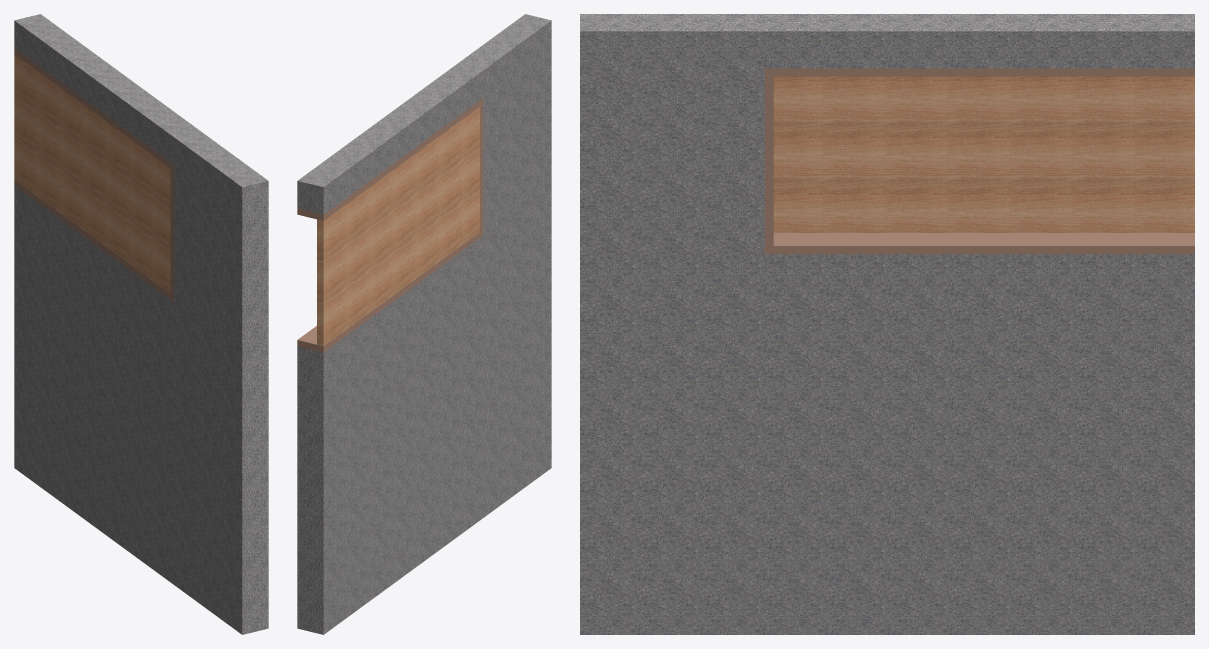
3 renders of one model, left to right at view 1: azimuth 30°, elevation 25°; view 2: azimuth 150°, elevation 25°; view 3: azimuth 270°, elevation 25°, orthographic. The views are drawn at different scales.
Visible parts, largest first — view 1: 0_0_2_2_1_1_2_3; view 2: 0_0_2_2_1_1_2_3; view 3: 0_0_2_2_1_1_2_3.
Part boxes in pixels (x1,y1,x2,y2): 0_0_2_2_1_1_2_3: [14, 14, 268, 634]; 0_0_2_2_1_1_2_3: [297, 14, 551, 634]; 0_0_2_2_1_1_2_3: [580, 14, 1194, 634].
Size of the model in its own units: 0.2 by 3.25 by 3.
3 materials, 2 textured.
